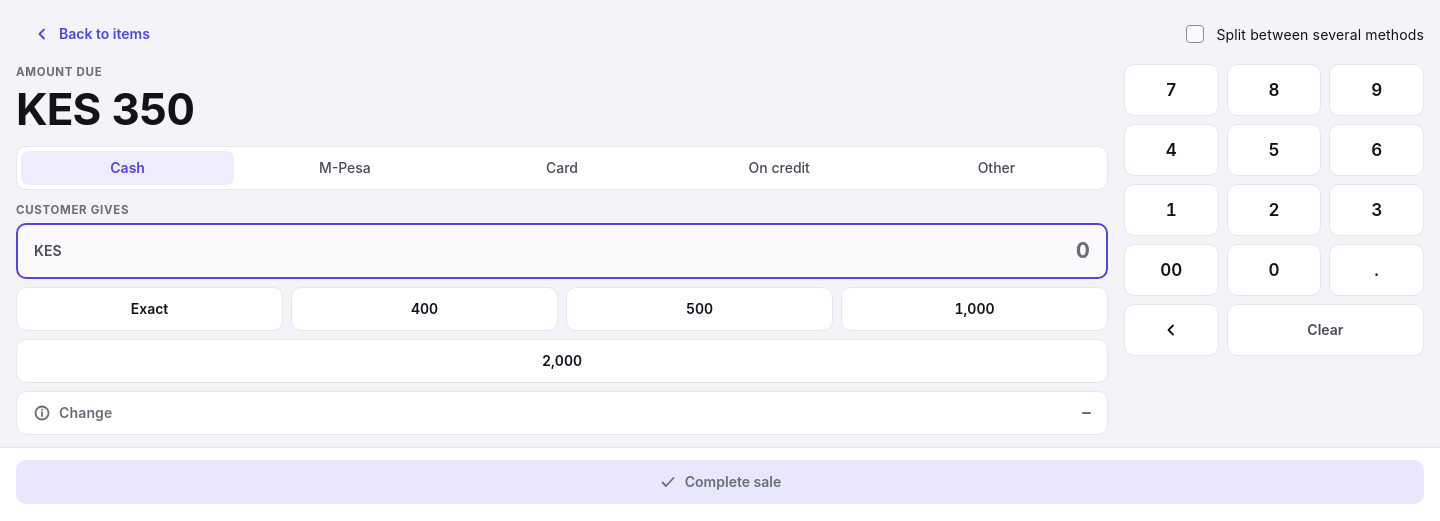
it: cash: quick cash, pad and Change (AC-19) › Change says Exact with an icon when the amount matches
Click the button with aria-label "exact amount": (150, 309) left=16, top=287, right=283, bottom=331
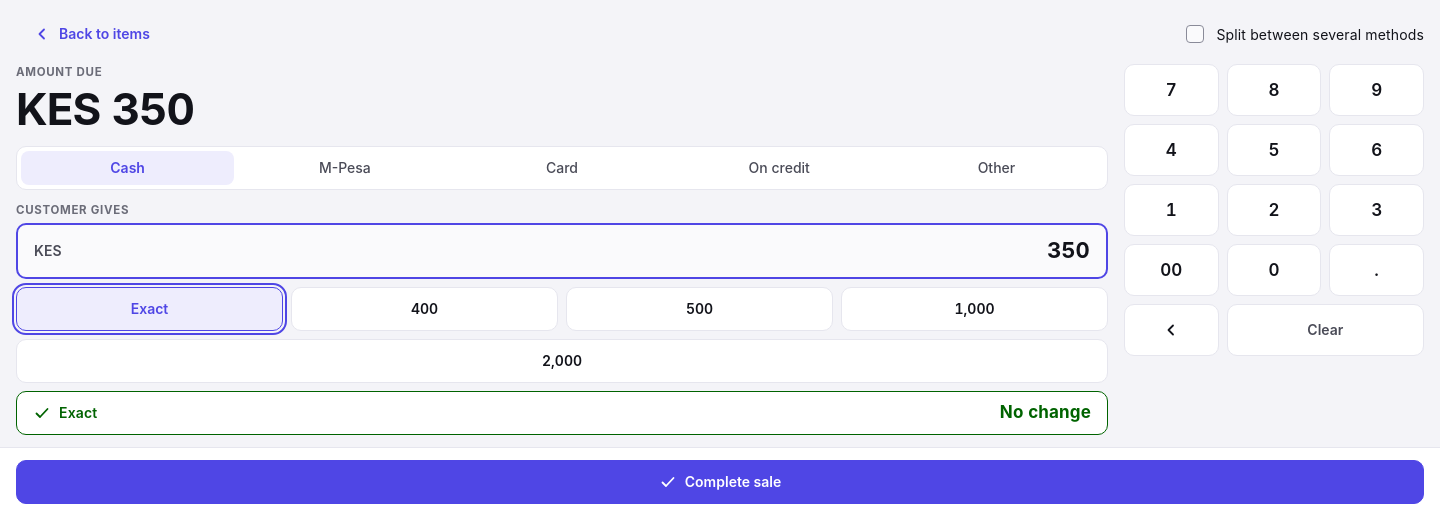
expect the icon in the row of "No change" is shown: met, box left=33, top=404, right=51, bottom=422
expect the text "No change" is shown: met, box left=1000, top=400, right=1091, bottom=426
